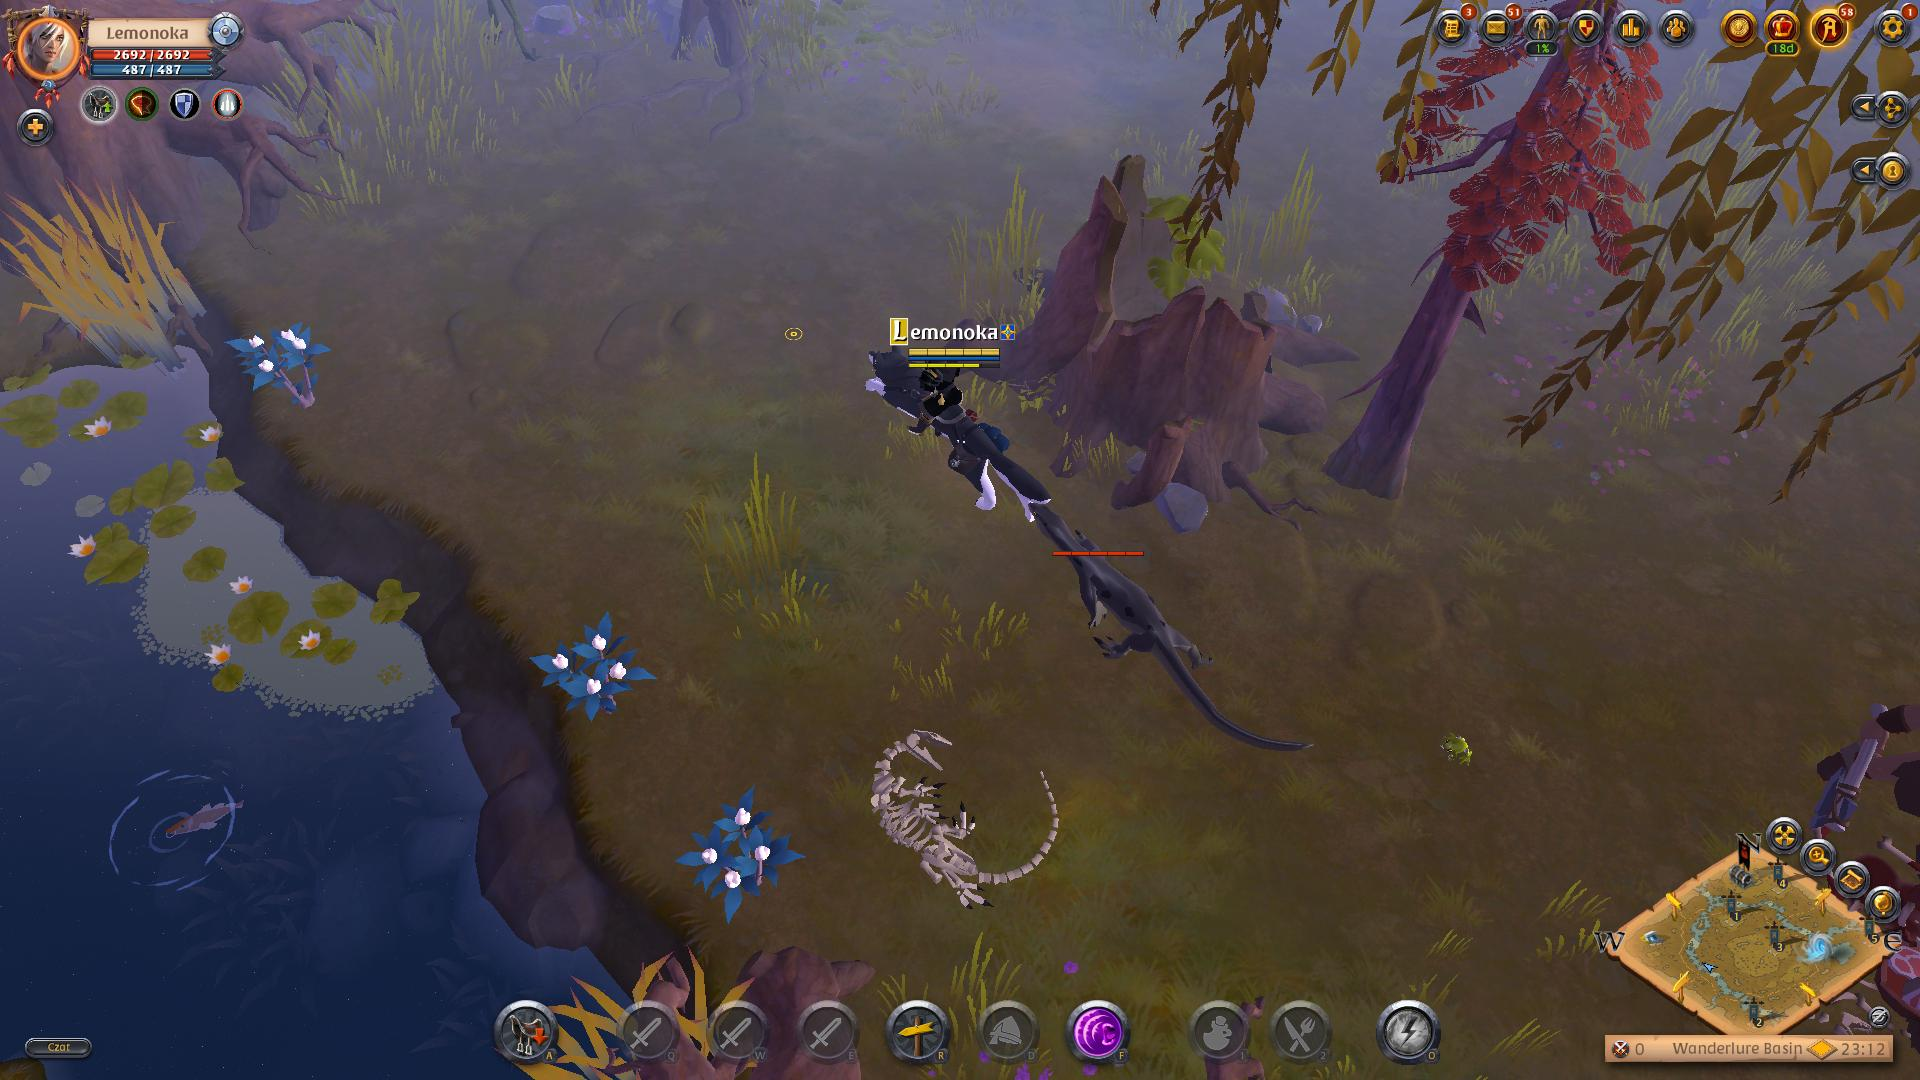fiber tier 4: (671, 783, 810, 924), (518, 617, 665, 731), (227, 315, 335, 419)
fish: (90, 758, 265, 901)
